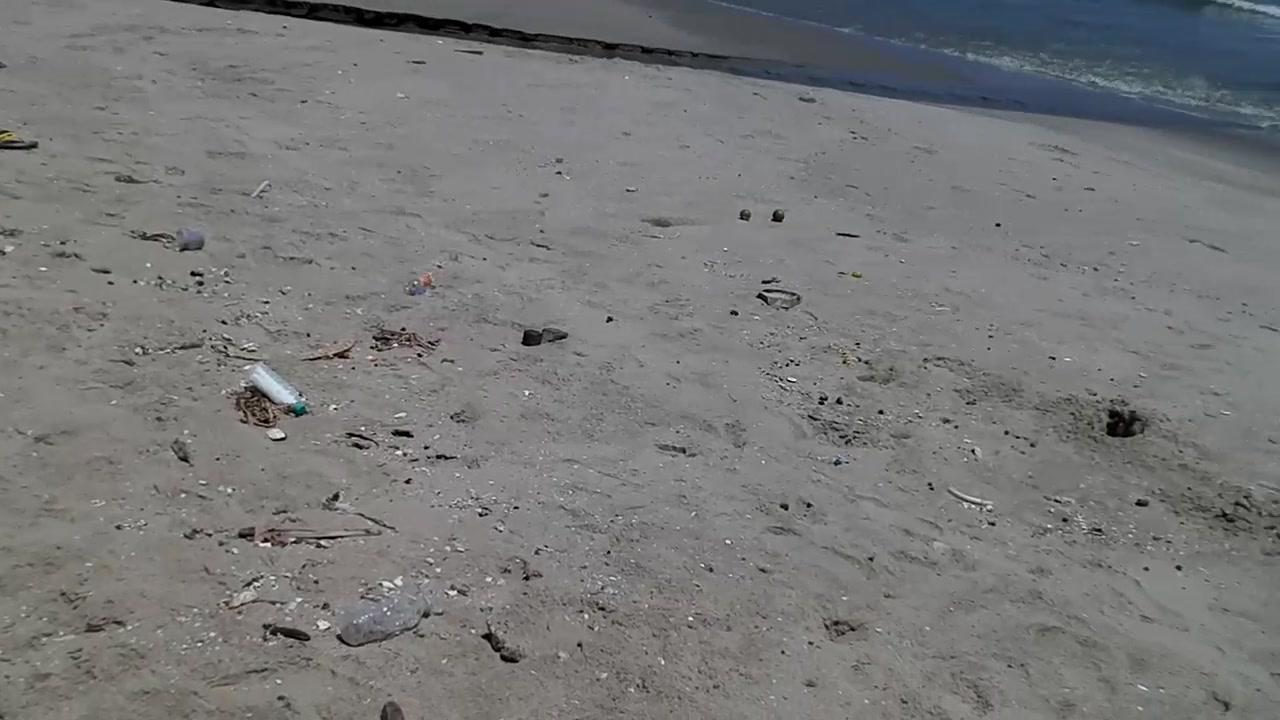large collection of objects: (249, 180, 268, 199), (771, 209, 784, 222), (737, 209, 751, 221)
obj: (215, 570, 311, 626), (339, 590, 431, 646), (236, 514, 384, 548), (246, 361, 308, 416), (368, 326, 448, 356), (236, 380, 277, 429), (476, 626, 528, 664), (1107, 404, 1154, 440), (952, 483, 989, 514), (756, 287, 802, 309), (404, 270, 438, 296), (372, 693, 404, 719), (0, 128, 39, 149), (520, 328, 568, 344), (168, 437, 192, 468), (176, 228, 207, 252), (266, 426, 287, 442), (453, 50, 484, 56), (407, 60, 427, 66), (395, 93, 410, 101), (604, 316, 618, 322), (628, 187, 638, 192), (281, 22, 288, 29), (225, 20, 233, 24)
sand/background: (199, 0, 1279, 153)
